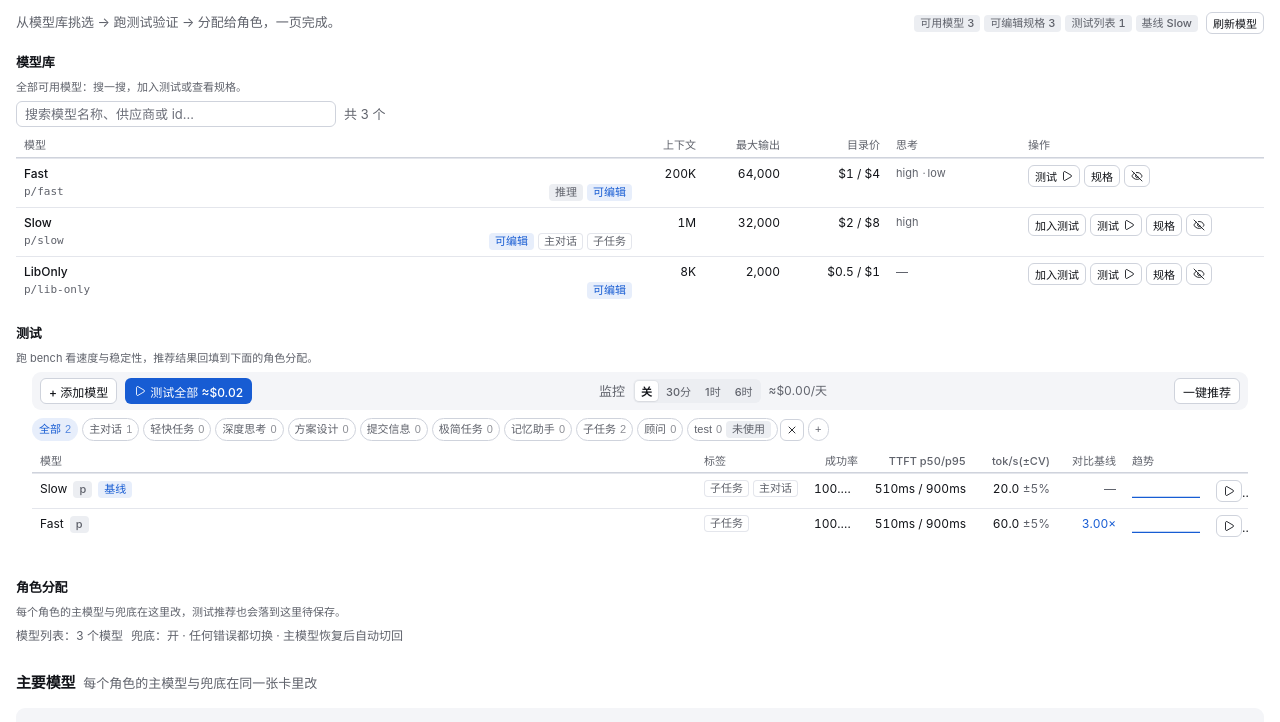
模型库 › 隐藏模型：移出模型库，可在「显示已隐藏」恢复
Expected: the element "模型库" is shown, [16, 38, 1264, 305]
Expected: the button "测试全部 ≈$0.02" is shown, [125, 378, 252, 404]
Click the button named "隐藏 p/fast" at (1137, 176), box [1124, 165, 1150, 187]
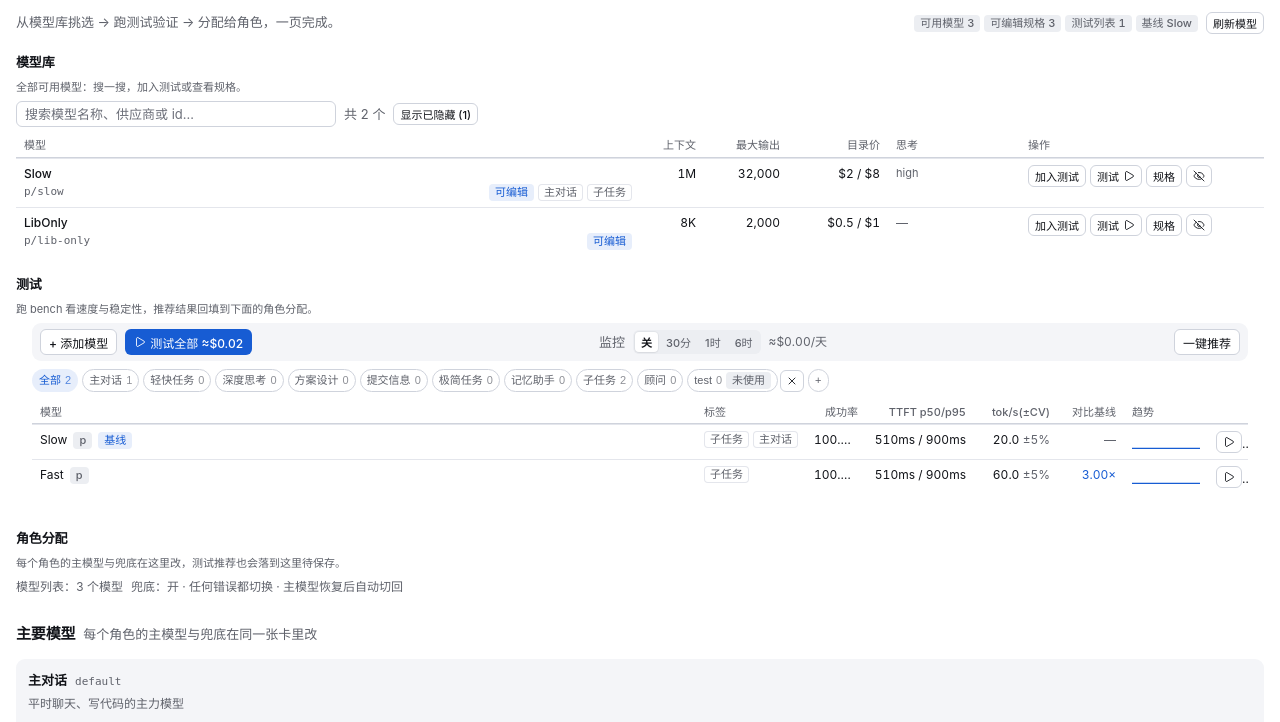
Click the button "显示已隐藏 (1)" at (436, 114), box [393, 103, 478, 125]
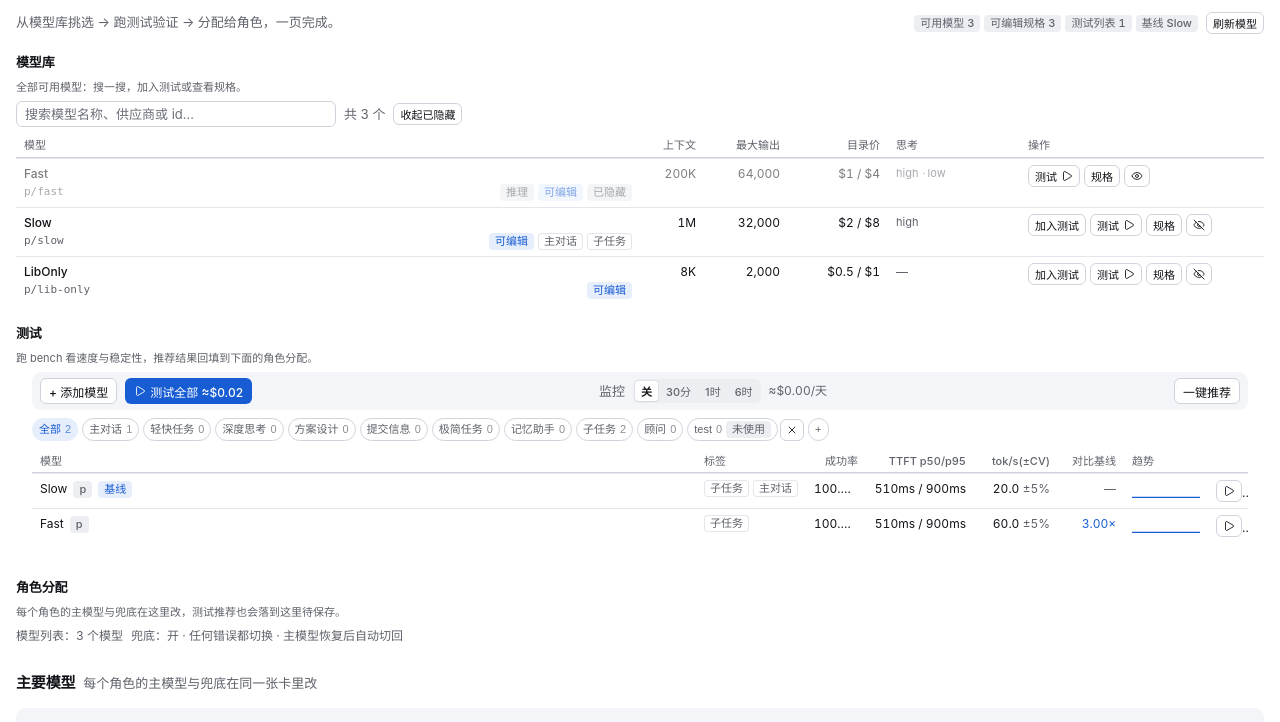
Now the text "已隐藏" is shown, box [587, 184, 632, 201]
Click the button named "取消隐藏 p/fast" at (1137, 176), box [1124, 165, 1150, 187]
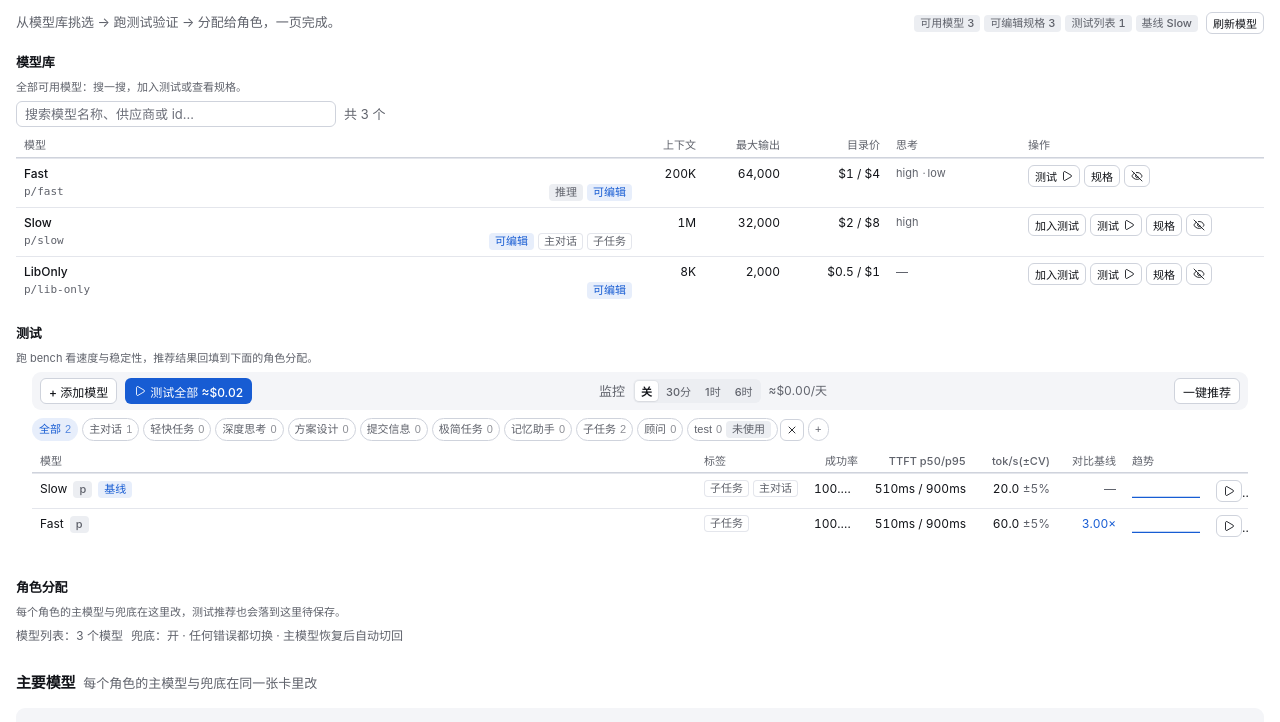
Now the button "收起已隐藏" is gone
